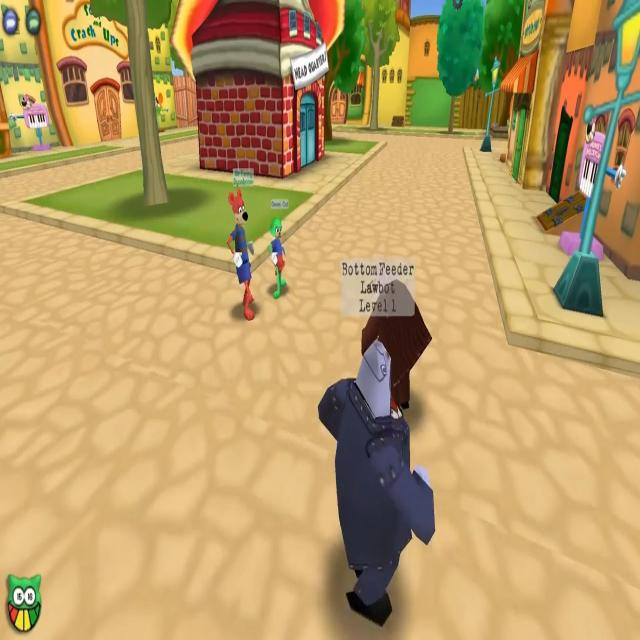bottomfeeder: (316, 342, 438, 618)
flunky: (360, 256, 430, 414)
